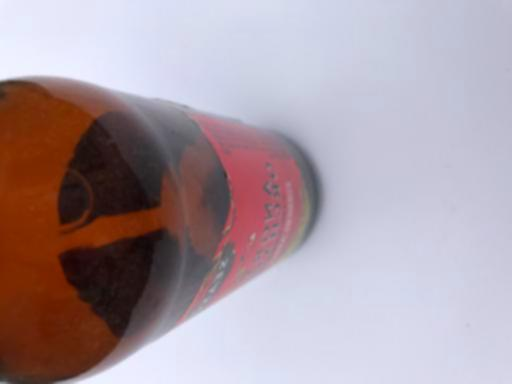alcohol: (0, 75, 320, 384)
glass: (0, 75, 320, 384)
sodocalcique: (0, 75, 320, 384)
